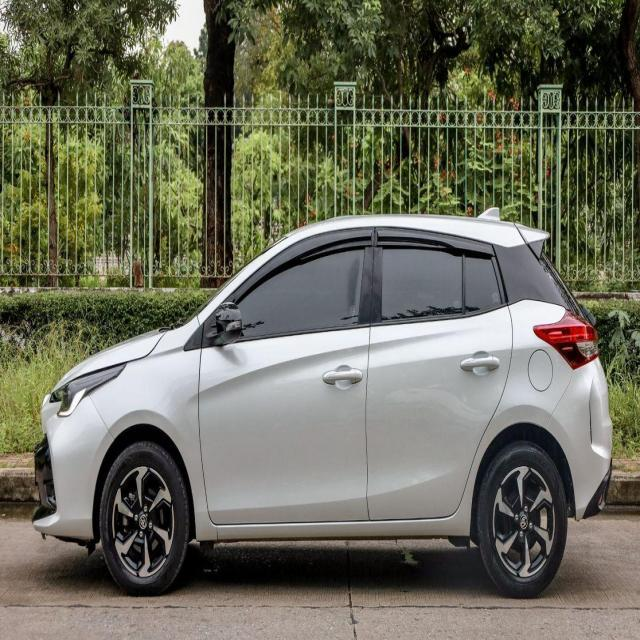Hatchback: (31, 211, 615, 600)
